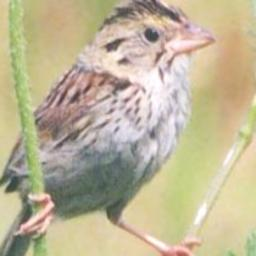Sparrow: (0, 0, 217, 256)
